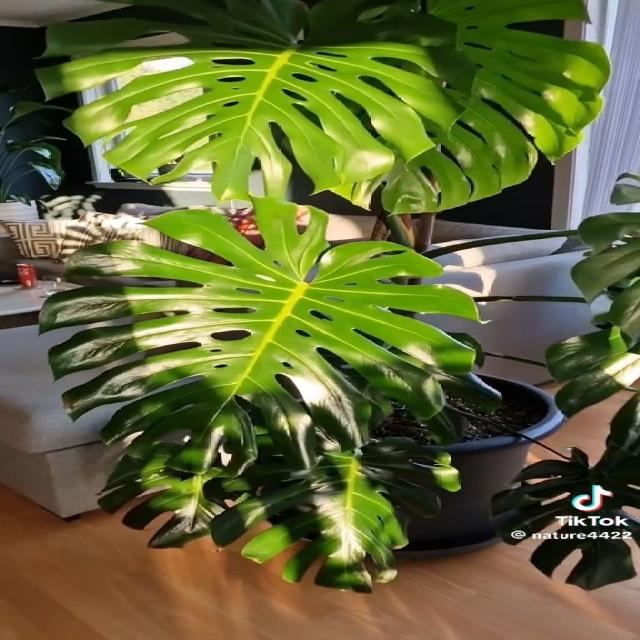roslina_zdrowa: (29, 0, 640, 597)
